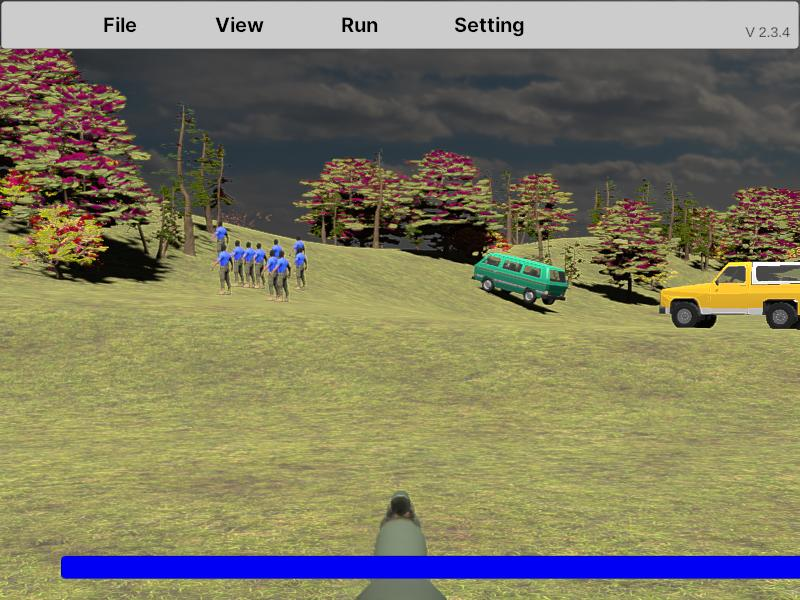car: (658, 261, 800, 331), (472, 253, 568, 306)
